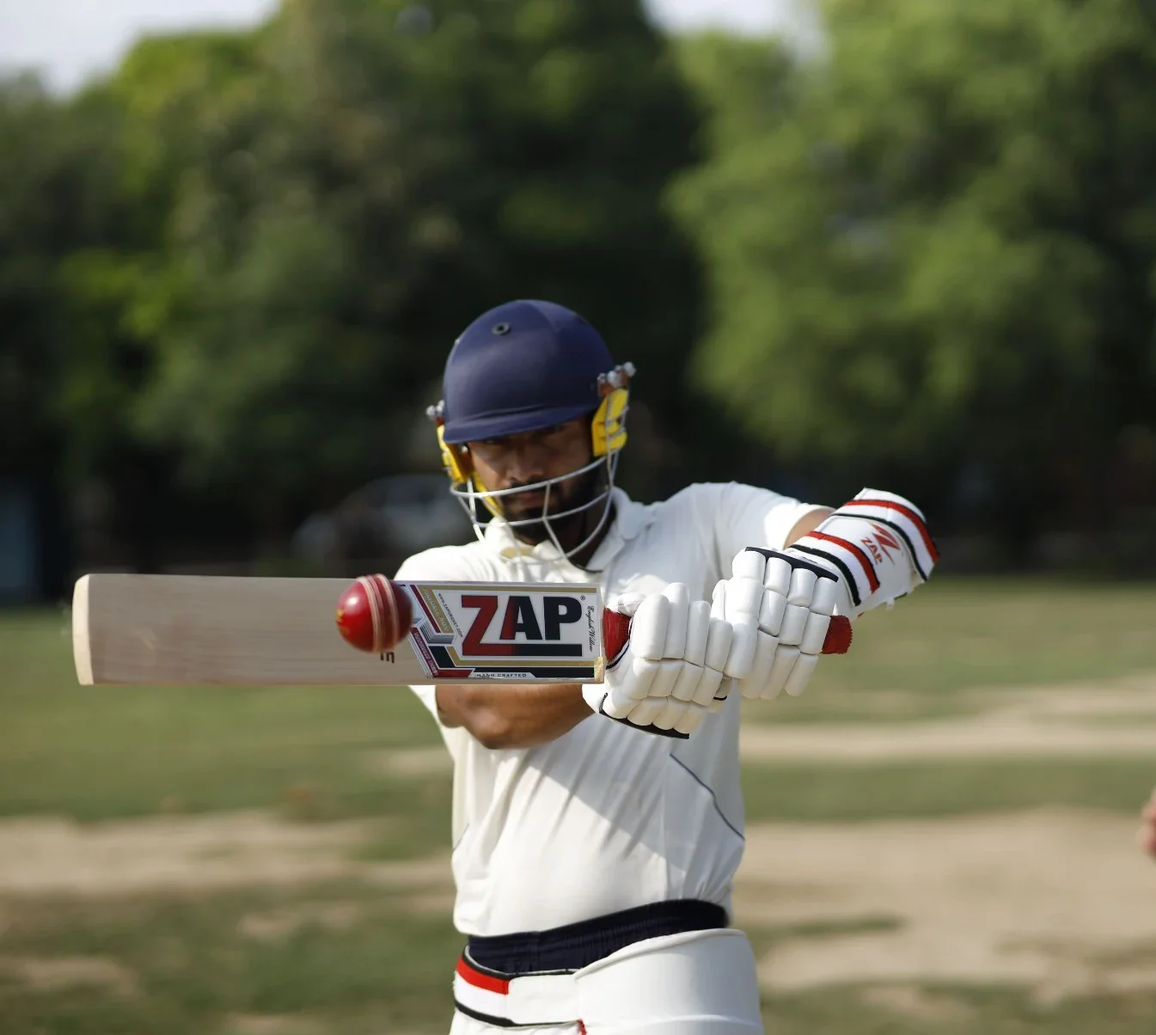Pullshot: (45, 0, 1082, 1035)
